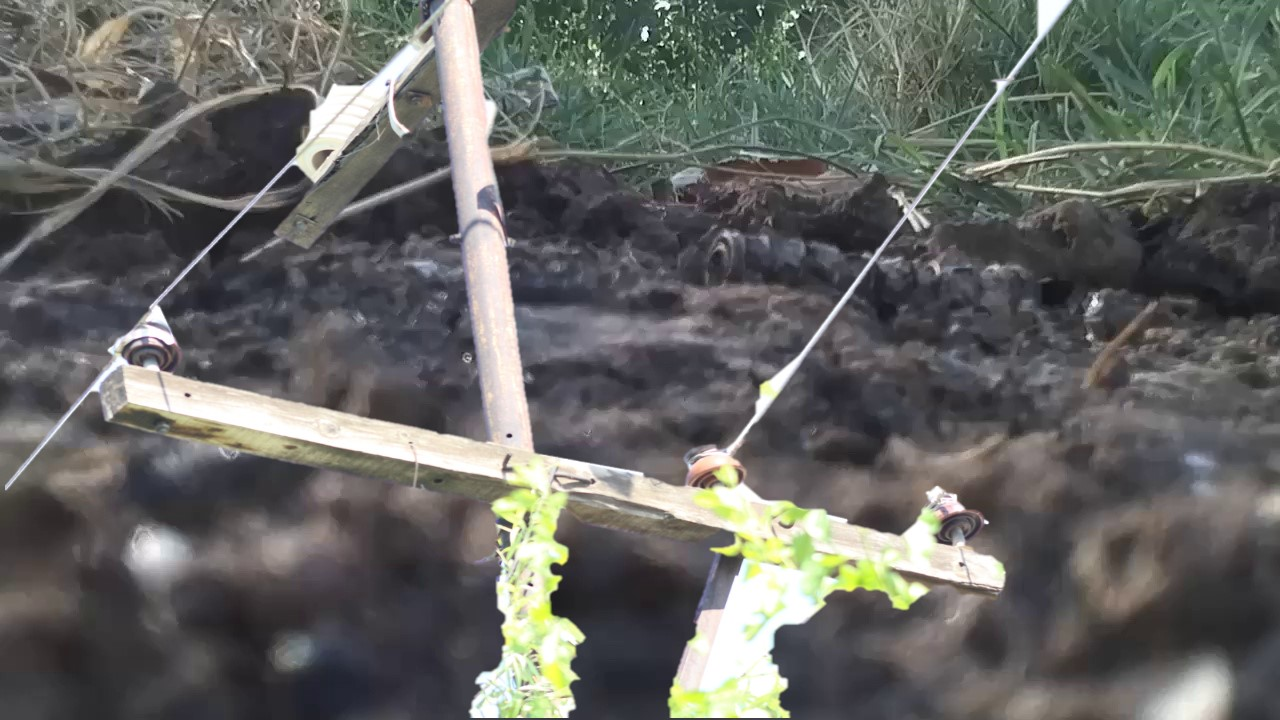defect_pin: (110, 316, 187, 373)
insulator_pin: (678, 437, 750, 492)
